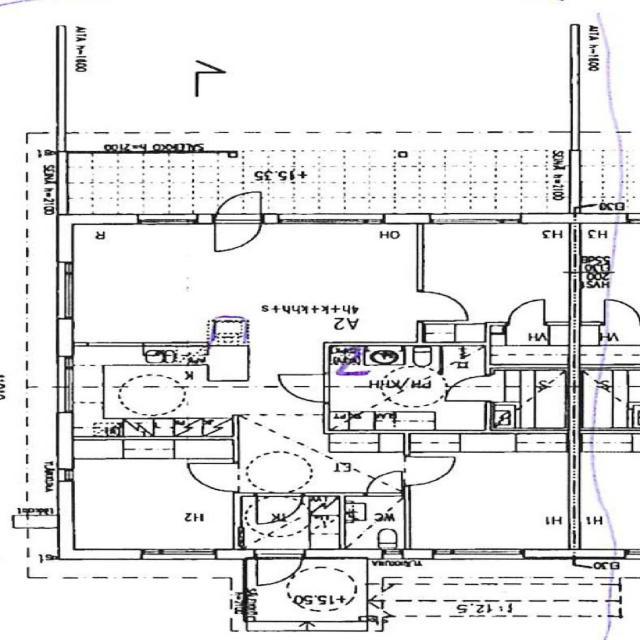door: (214, 185, 260, 223), (214, 214, 260, 252), (257, 549, 301, 587), (417, 292, 468, 321), (257, 492, 301, 524), (404, 457, 454, 485), (279, 374, 329, 402), (190, 464, 239, 491), (444, 376, 493, 400), (508, 300, 544, 326), (367, 470, 402, 496)
